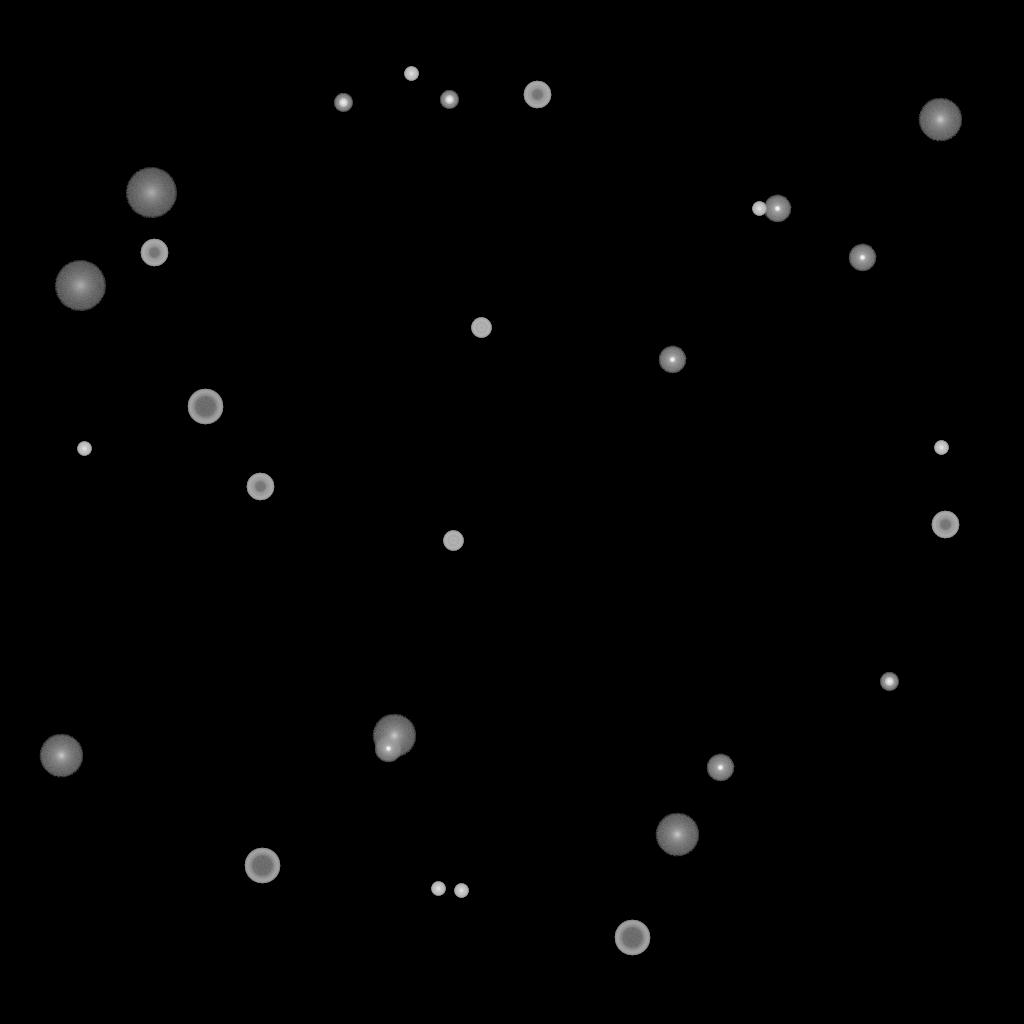depth:-10: (374, 735, 402, 763), (658, 346, 686, 374), (763, 195, 791, 223), (848, 244, 876, 272), (706, 754, 734, 782)
depth:-20: (880, 673, 898, 691), (334, 94, 352, 112), (440, 91, 458, 109)
depth:-30: (934, 441, 948, 455), (752, 202, 766, 216), (454, 884, 468, 898), (77, 442, 91, 456), (404, 67, 418, 81), (431, 882, 445, 896)
depth:-40: (443, 531, 463, 551), (471, 318, 491, 338)
depth:-50: (140, 239, 168, 267), (523, 81, 551, 109), (931, 511, 959, 539), (246, 473, 274, 501)
depth:-60: (614, 920, 650, 956), (244, 848, 280, 884), (187, 389, 223, 425)
depth:10: (655, 813, 699, 857), (918, 98, 962, 142), (372, 714, 416, 758), (39, 734, 83, 778)
depth:20: (125, 168, 177, 218), (54, 261, 106, 311)
